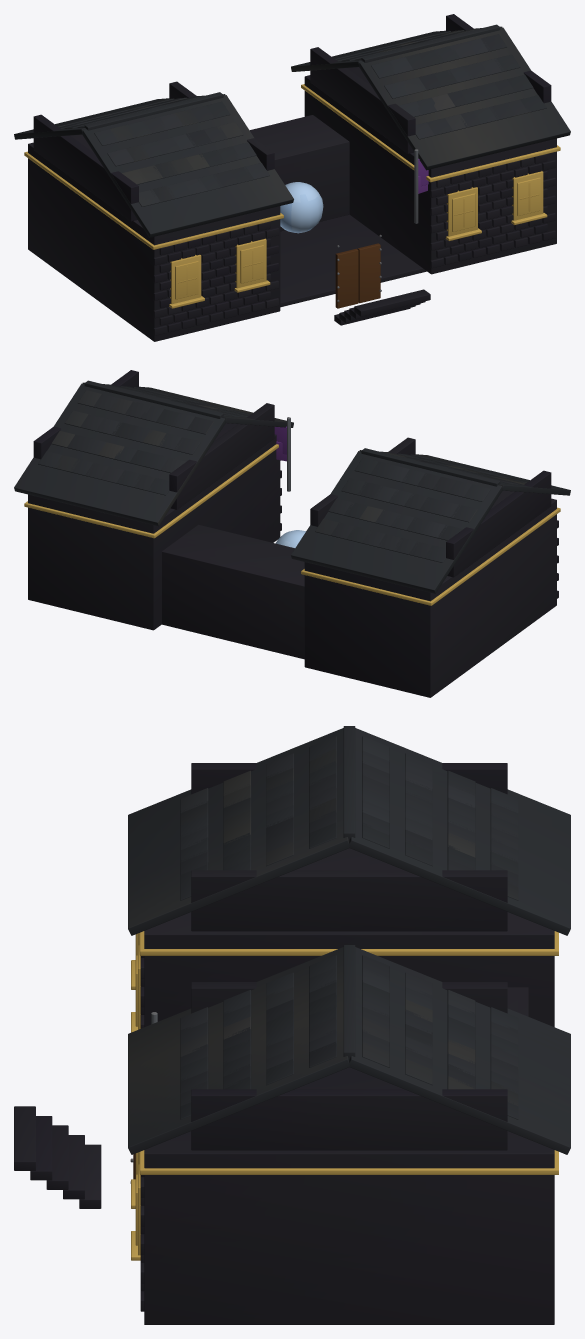
The model's file is building_arcane_academy.fbx.
3 views of the same model, one above another, from view 1: azimuth 30°, elevation 25°; view 2: azimuth 150°, elevation 25°; view 3: azimuth 270°, elevation 25° (orthographic). The views are drawn at different scales.
Parts seen in each view (by area): view 1: building_arcane_academy; view 2: building_arcane_academy; view 3: building_arcane_academy.
Boxes of the visible parts, x1=… form: building_arcane_academy: x1=14, y1=14, x2=570, y2=341; building_arcane_academy: x1=14, y1=370, x2=570, y2=697; building_arcane_academy: x1=14, y1=726, x2=570, y2=1324.
Bounding box in the file's own units: 13.53 × 5.54 × 9.56.
